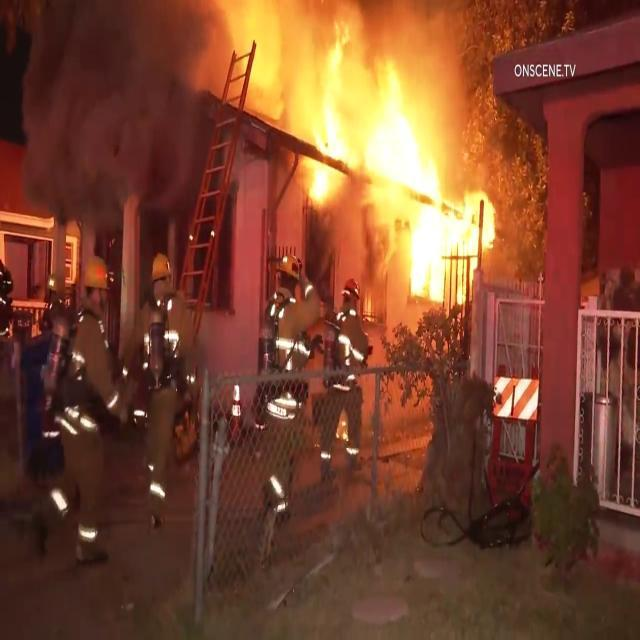Fire: (285, 58, 484, 294)
Smoke: (39, 8, 182, 196)
